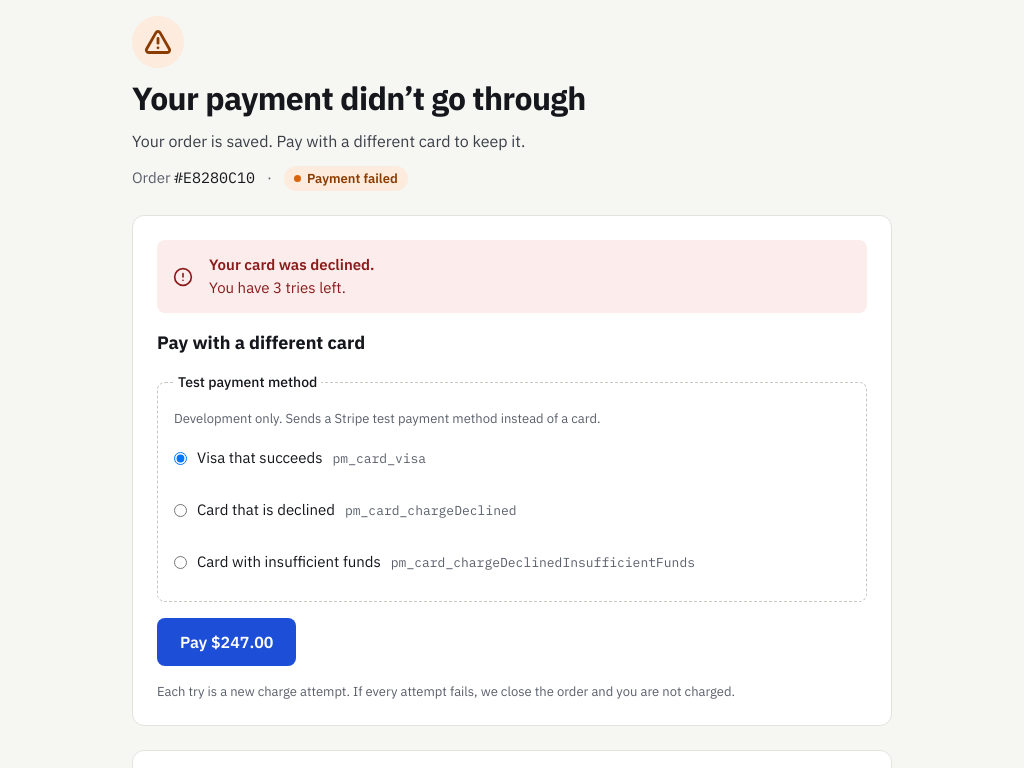
Test: OrderPlacedPage › shows the decline reason and confirms after a retry with a good card
Expected: the heading "Your payment didn’t go through" is shown, [132,80,586,117]
Expected: the message reads "Your card was declined. You have 3 tries left.", [157,240,867,313]
Click the button "Pay $247.00": (227, 642) [157,618,296,666]
Wait 4000 ms
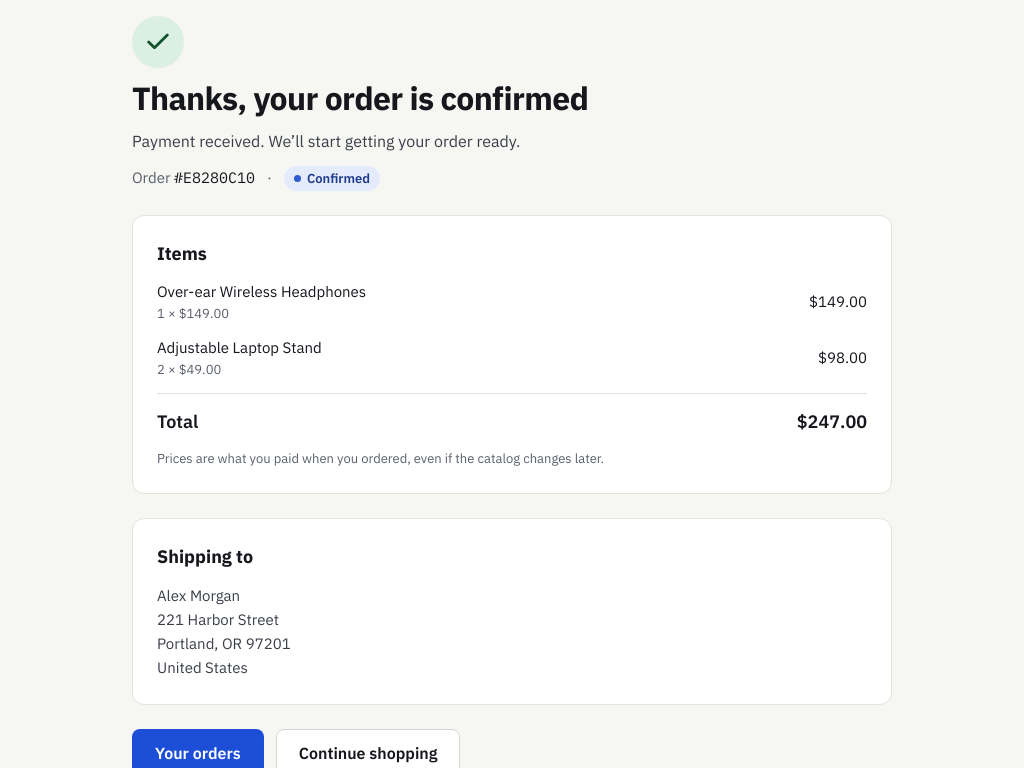
Expected: the heading "Thanks, your order is confirmed" is shown, [132,80,588,117]
